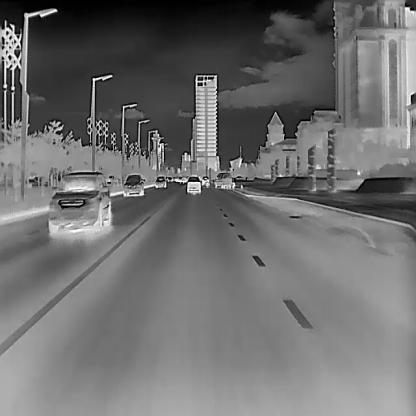car: (46, 170, 111, 233), (122, 173, 144, 196), (214, 173, 231, 189), (186, 175, 200, 193), (155, 176, 165, 188), (202, 175, 210, 187)
